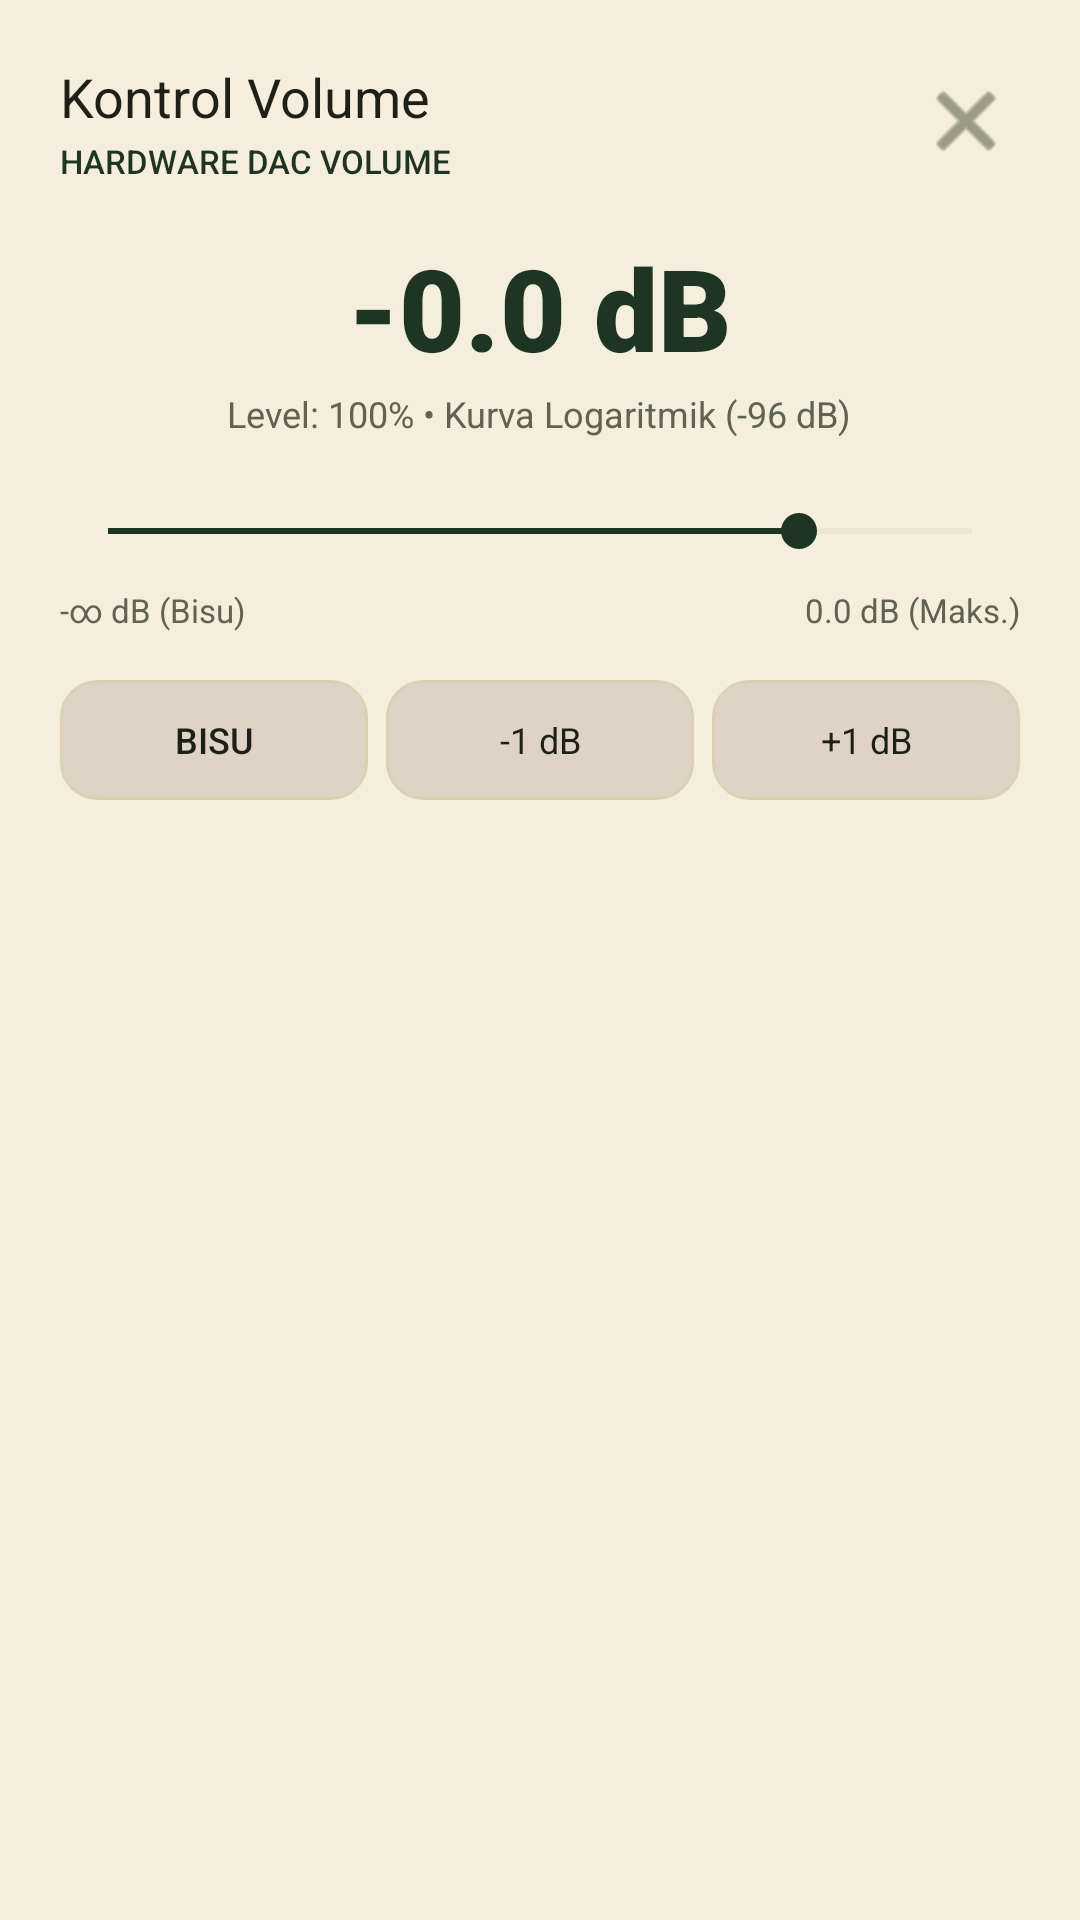

Named icons in this screenshot (1080px×1920px) and their bounding boxes, (x1, y1, x2, y2):
Tutup: (936, 91, 996, 151)
